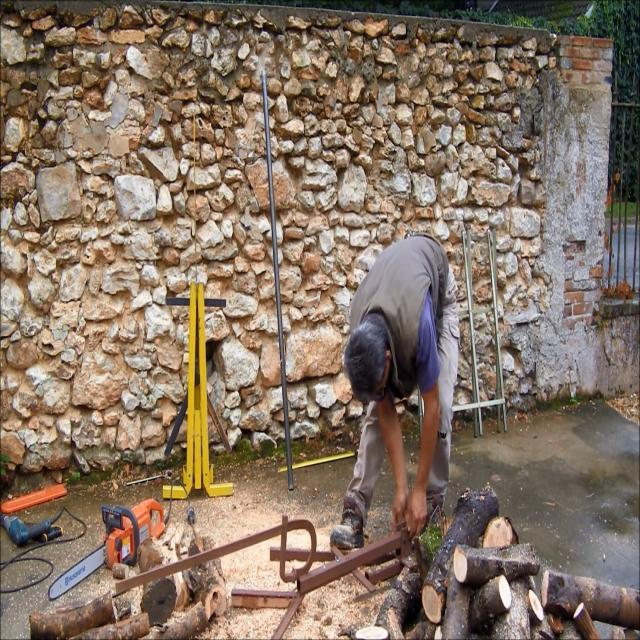Chainsaw: (45, 444, 180, 620)
